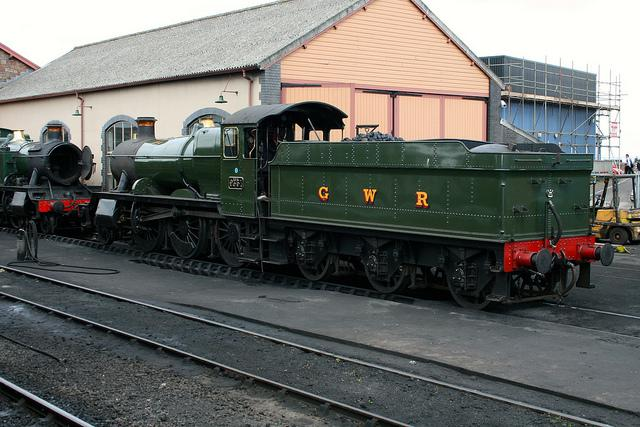Train: (1, 106, 599, 318)
